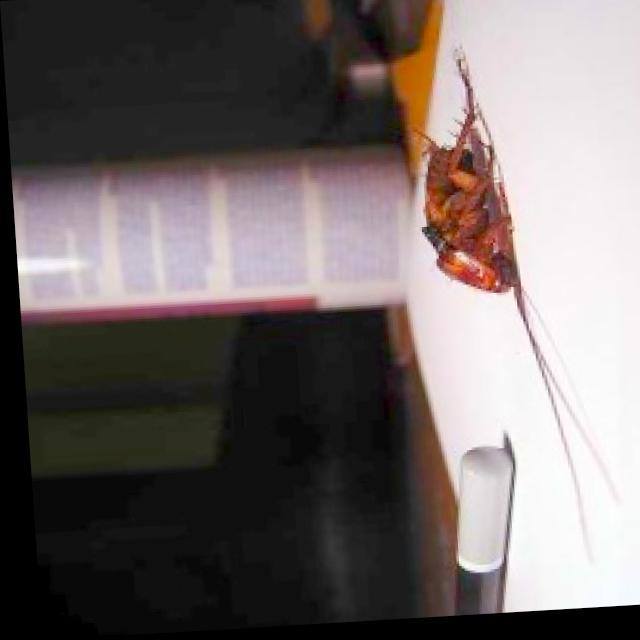cockroach: (408, 43, 534, 356)
